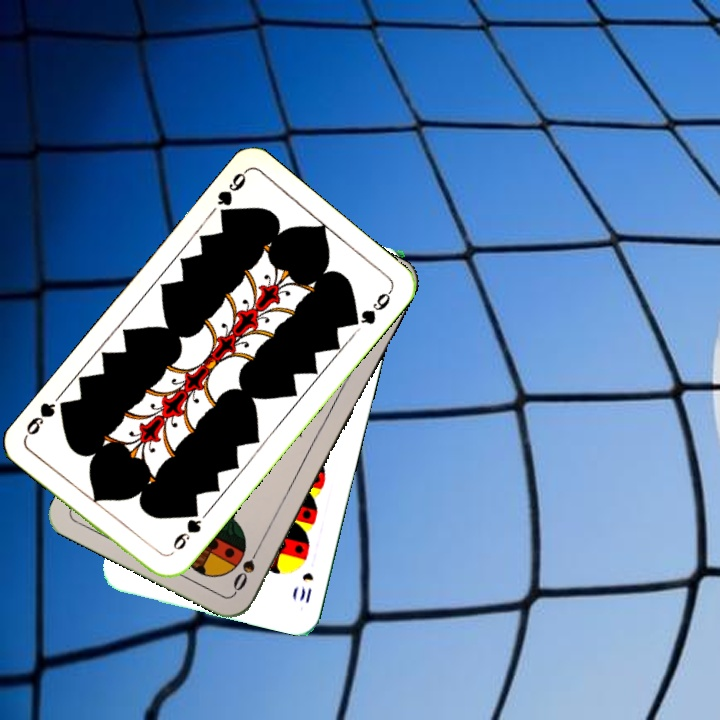G9: (213, 167, 249, 223), (168, 505, 205, 553)
S10: (295, 568, 316, 606)
SO: (229, 540, 264, 595)
